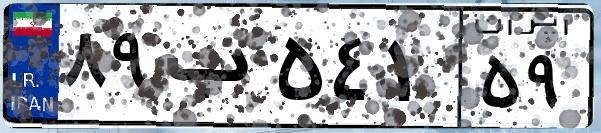1: (385, 28, 445, 110)
4: (330, 28, 385, 110)
5: (270, 28, 330, 110), (475, 38, 525, 113)
8: (57, 26, 110, 100)
9: (525, 38, 570, 115), (110, 28, 158, 98)
ب: (158, 20, 270, 120)
